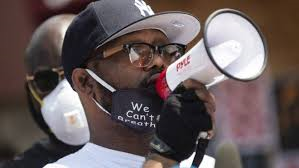mask_weared_incorrect: (76, 16, 199, 138)
